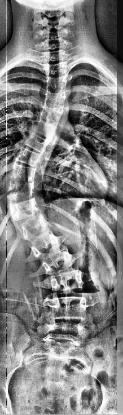Vertebrae: (34, 245, 80, 277), (44, 297, 94, 323), (12, 213, 54, 243), (24, 231, 66, 261), (45, 269, 89, 297), (23, 130, 62, 156), (6, 198, 44, 224), (32, 118, 72, 142), (14, 144, 48, 170), (5, 178, 40, 202), (37, 104, 71, 128), (40, 72, 74, 94), (39, 88, 73, 110), (6, 161, 40, 183), (42, 59, 74, 78), (39, 49, 72, 64)
